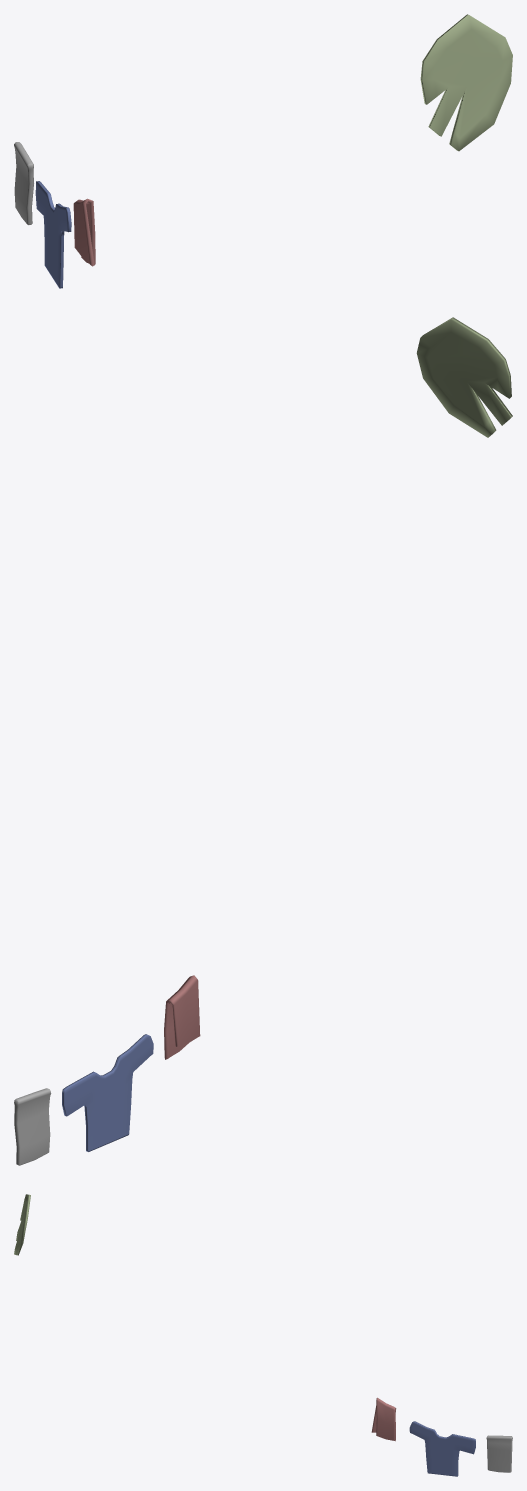
File: animated_objects.fbx
3 renders of one model, top to bottom at view 1: azimuth 30°, elevation 25°; view 2: azimuth 150°, elevation 25°; view 3: azimuth 270°, elevation 25°, orthographic. The views are drawn at different scales.
Visible parts, largest first — view 1: polySurface688; view 2: polySurface688; view 3: polySurface688.
Part boxes in pixels (bbox=[...]): polySurface688: bbox=[14, 14, 512, 288]; polySurface688: bbox=[14, 317, 512, 1165]; polySurface688: bbox=[14, 1194, 512, 1476].
Size of the model in its own units: 58.58 by 280 by 437.
